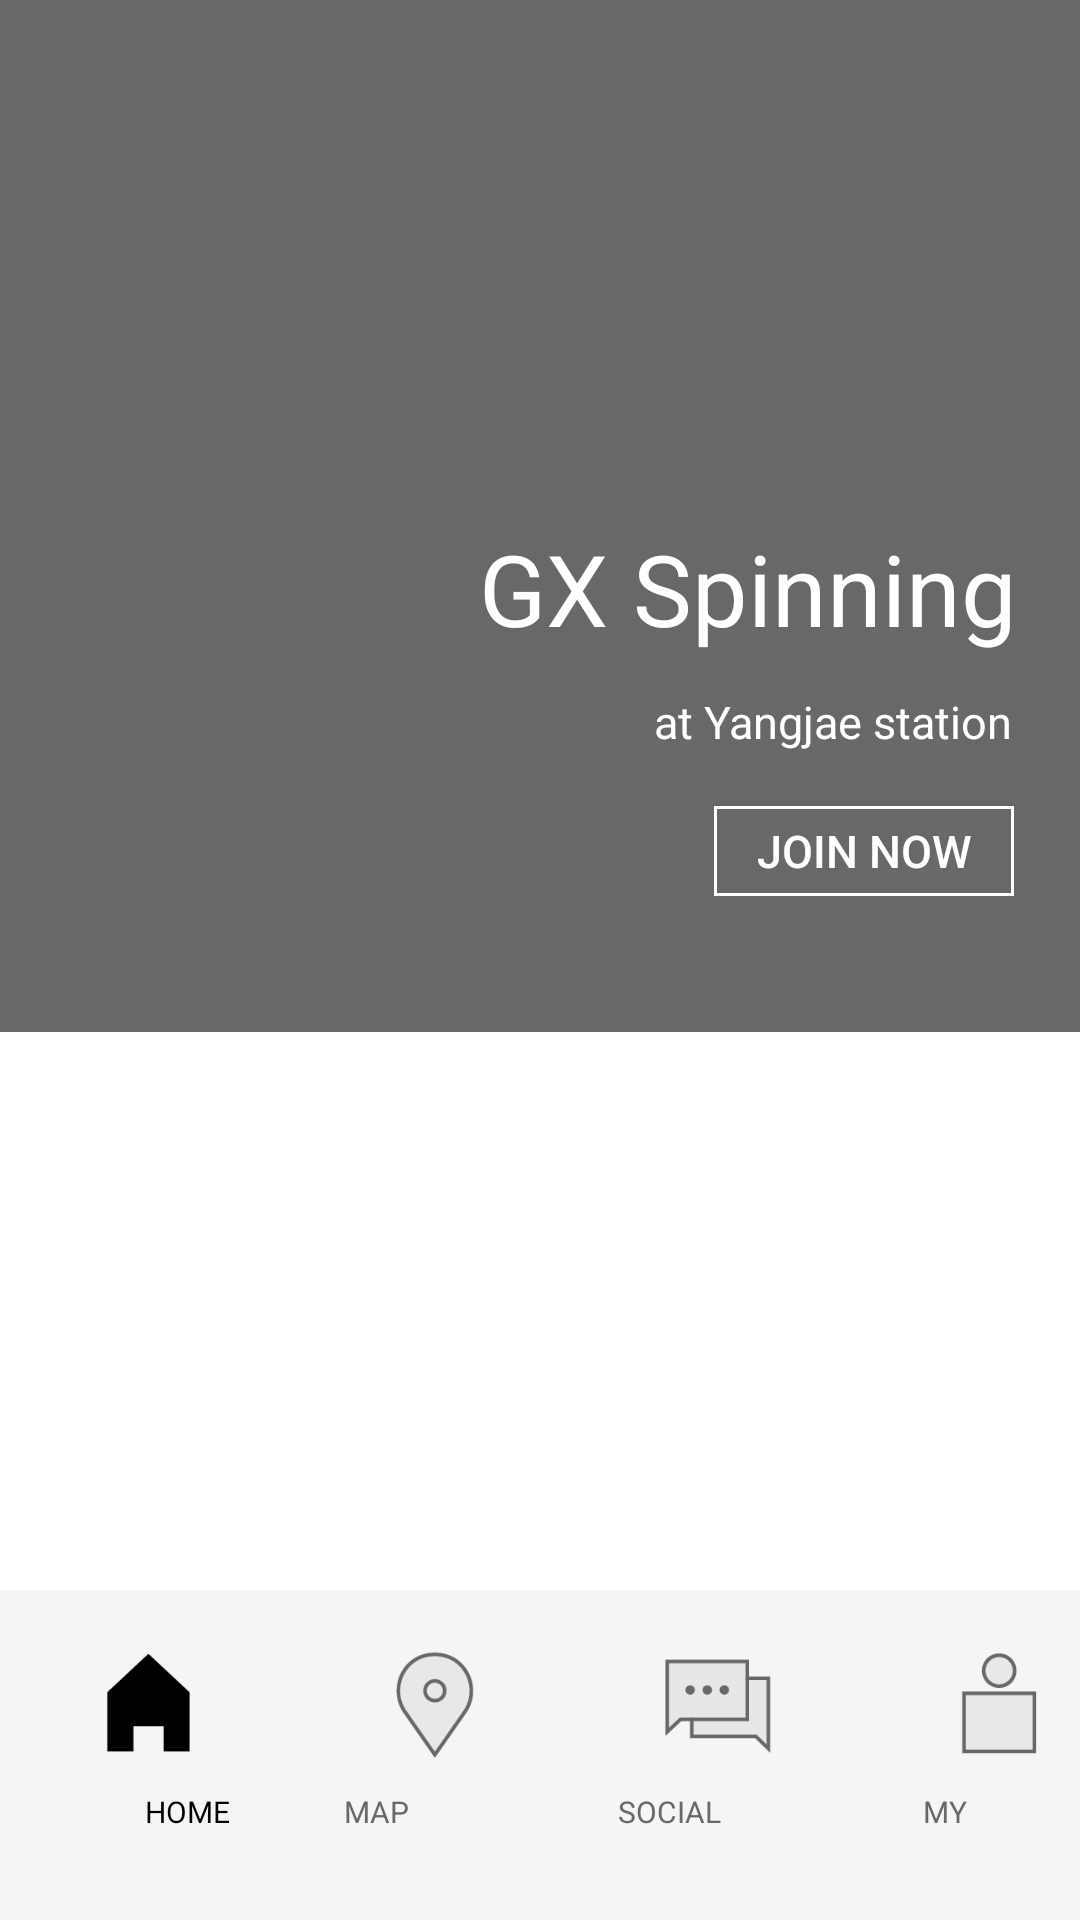

Named icons in this screenshot (1080px x 1920px) and their centers, [x,y]:
locationicon: [435,1705]
personicon: [999,1703]
talkicon: [718,1706]
